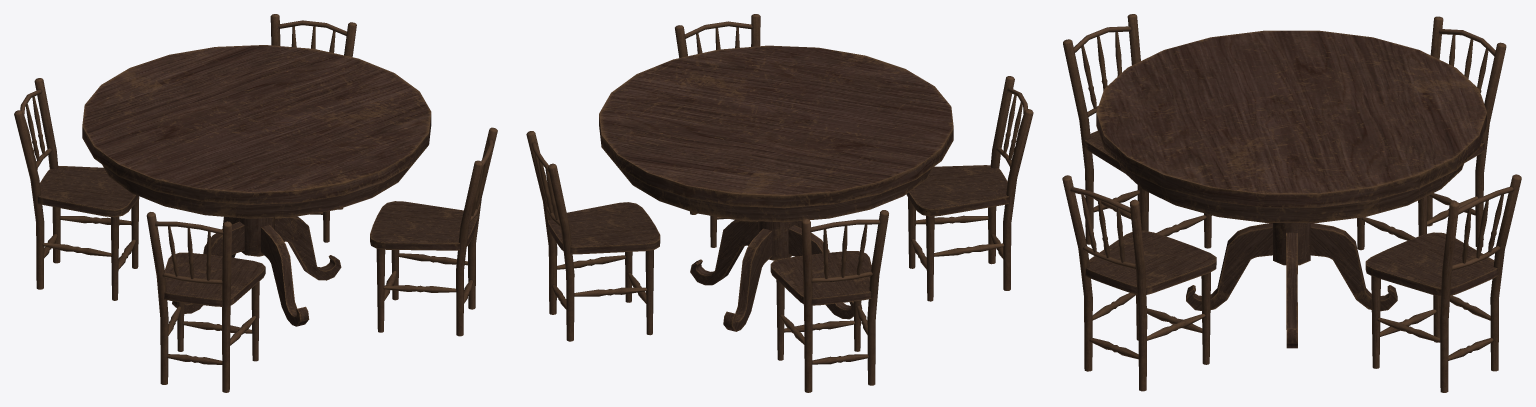
The picture shows the model from 3 angles, left to right: view 1: azimuth 30°, elevation 25°; view 2: azimuth 150°, elevation 25°; view 3: azimuth 270°, elevation 25°; orthographic projection. The views are drawn at different scales.
Visible parts, largest first — view 1: Table, Chair02, Chair01, Chair, Chair03; view 2: Table, Chair02, Chair01, Chair03, Chair; view 3: Table, Chair03, Chair, Chair02, Chair01.
Boxes of the visible parts, x1,y1,x2,y2 form: Table: (82, 45, 431, 326); Chair02: (146, 212, 265, 392); Chair01: (14, 78, 139, 300); Chair: (370, 127, 497, 336); Chair03: (270, 14, 356, 242); Table: (599, 45, 953, 331); Chair02: (906, 76, 1033, 301); Chair01: (770, 210, 888, 392); Chair03: (526, 131, 660, 341); Chair: (675, 14, 760, 247); Table: (1096, 30, 1486, 348); Chair03: (1365, 174, 1521, 392); Chair: (1062, 175, 1216, 391); Chair02: (1063, 14, 1211, 248); Chair01: (1357, 16, 1506, 250).
Bounding box in the file's own units: 1.66 × 0.7981 × 1.68.
2 materials, 2 textured.
